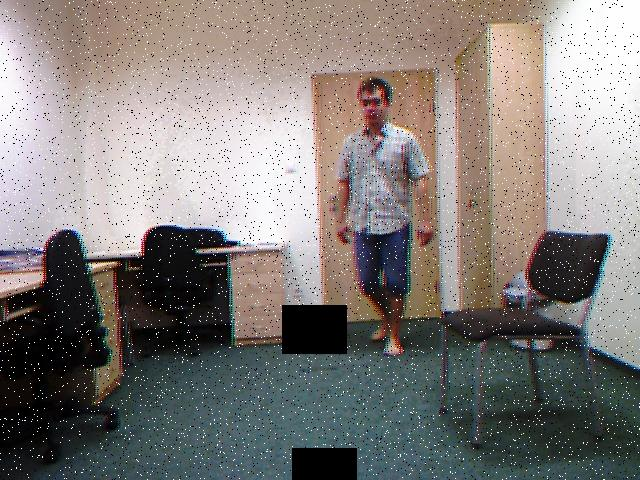walking: (332, 72, 440, 361)
